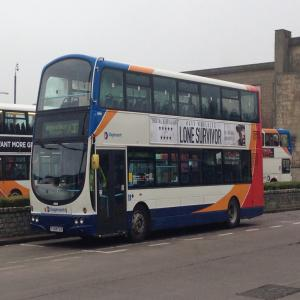Vehicle-registration-plate: (51, 226, 64, 234)
